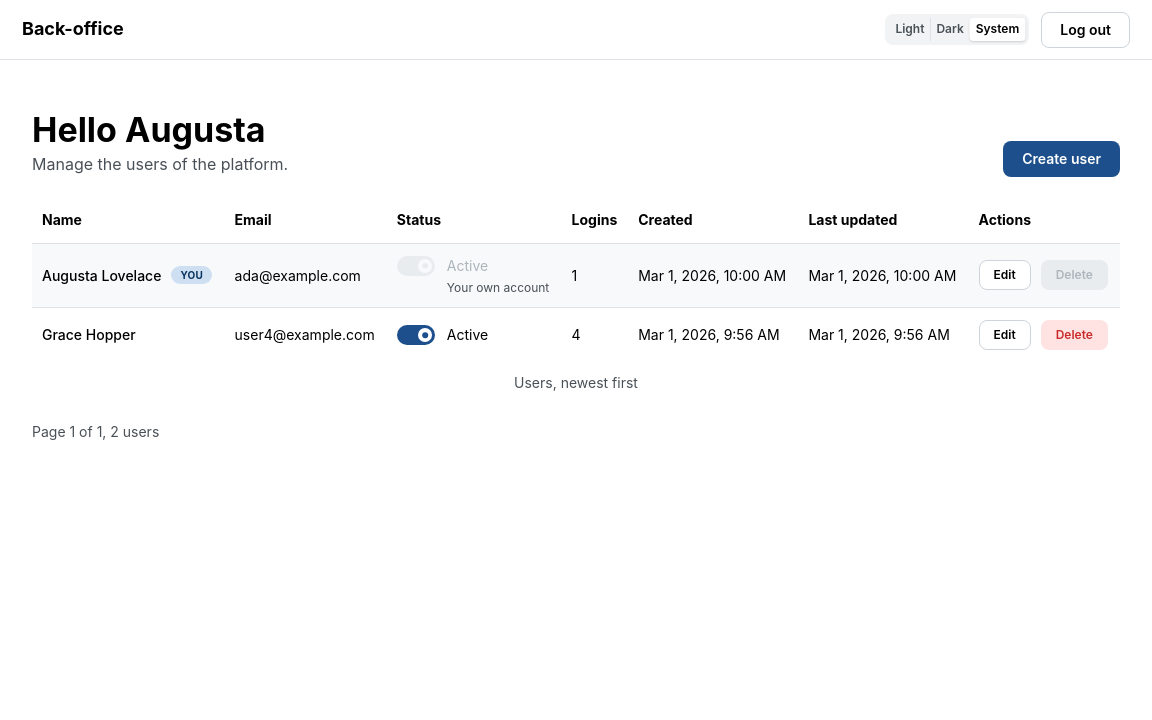
Test: dashboard: presentation details › DASH-61 success notifications are polite status messages that do not take focus
Expected: the table is shown, top-left (32, 197), bottom-right (1120, 394)
Click the switch named "Active: Grace Hopper".
click(416, 335)  # box top-left (397, 325), bottom-right (488, 345)
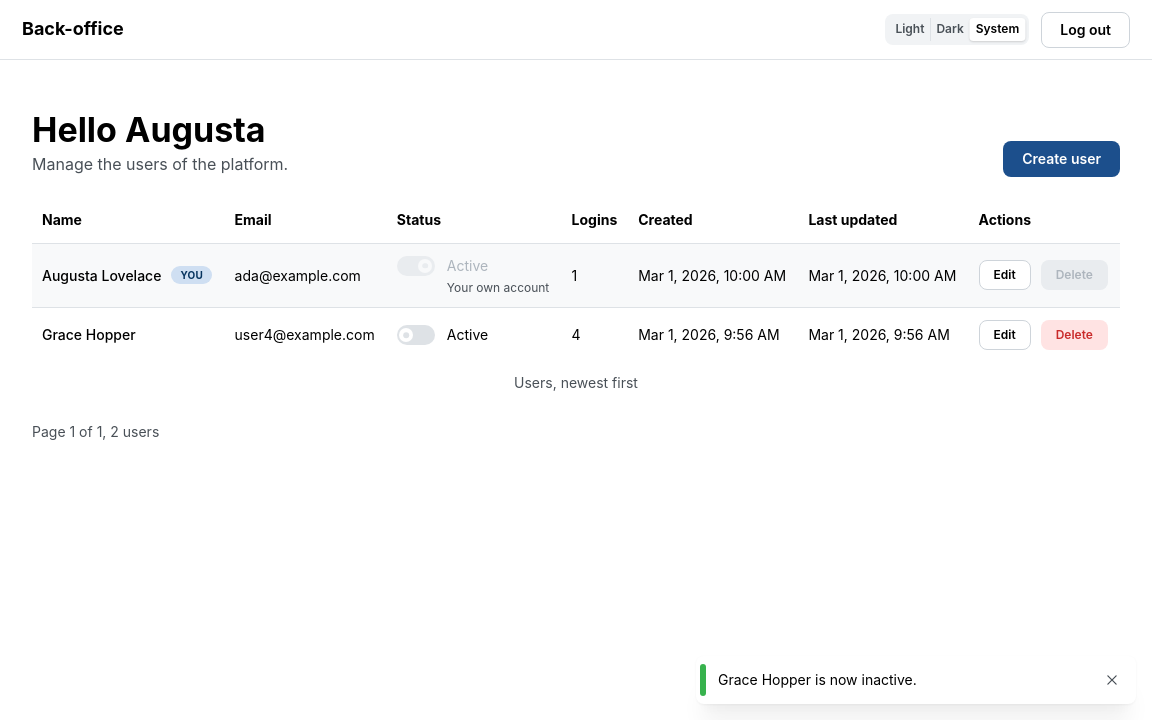
Expected: the text "Grace Hopper is now inactive." is shown, top-left (696, 656), bottom-right (1136, 704)
